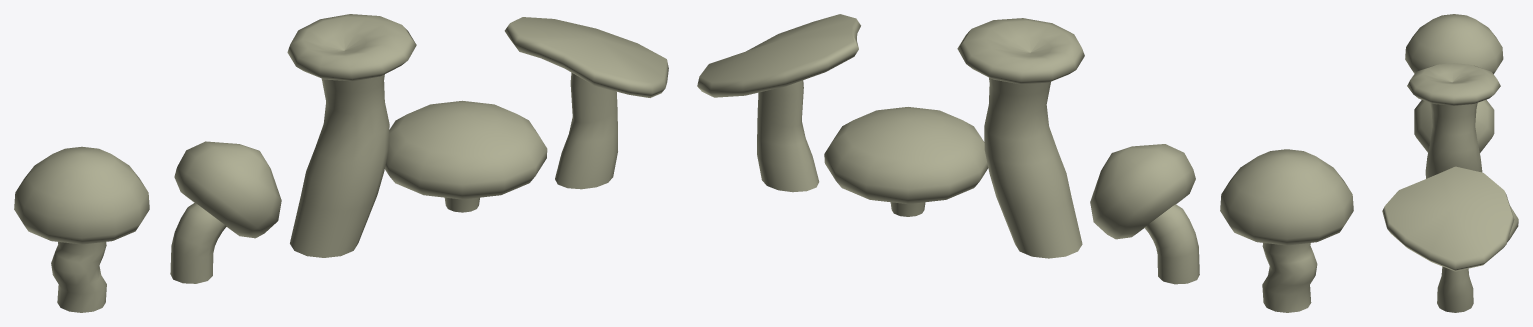
The model's file is Hongos.fbx.
The picture shows the model from 3 angles, left to right: view 1: azimuth 30°, elevation 25°; view 2: azimuth 150°, elevation 25°; view 3: azimuth 270°, elevation 25°; orthographic projection. The views are drawn at different scales.
Parts seen in each view (by area): view 1: Hongos:Hongo5, Hongos:Hongo2, Hongos:Hongo4, Hongos:Hongo3, Hongos:Hongo1; view 2: Hongos:Hongo5, Hongos:Hongo2, Hongos:Hongo4, Hongos:Hongo3, Hongos:Hongo1; view 3: Hongos:Hongo3, Hongos:Hongo5, Hongos:Hongo2, Hongos:Hongo1, Hongos:Hongo4.
Part boxes in pixels (bbox=[...]): Hongos:Hongo5: bbox=[287, 14, 416, 257]; Hongos:Hongo2: bbox=[14, 146, 149, 312]; Hongos:Hongo4: bbox=[385, 100, 547, 212]; Hongos:Hongo3: bbox=[504, 17, 668, 189]; Hongos:Hongo1: bbox=[170, 141, 281, 283]; Hongos:Hongo5: bbox=[957, 18, 1084, 258]; Hongos:Hongo2: bbox=[1220, 149, 1353, 312]; Hongos:Hongo4: bbox=[824, 107, 988, 216]; Hongos:Hongo3: bbox=[697, 14, 860, 192]; Hongos:Hongo1: bbox=[1090, 144, 1199, 284]; Hongos:Hongo3: bbox=[1382, 166, 1514, 312]; Hongos:Hongo5: bbox=[1407, 63, 1500, 178]; Hongos:Hongo2: bbox=[1405, 14, 1503, 74]; Hongos:Hongo1: bbox=[1414, 99, 1494, 152]; Hongos:Hongo4: bbox=[1507, 206, 1518, 242].
Bounding box in the file's own units: 6.02 × 1.82 × 1.52.
